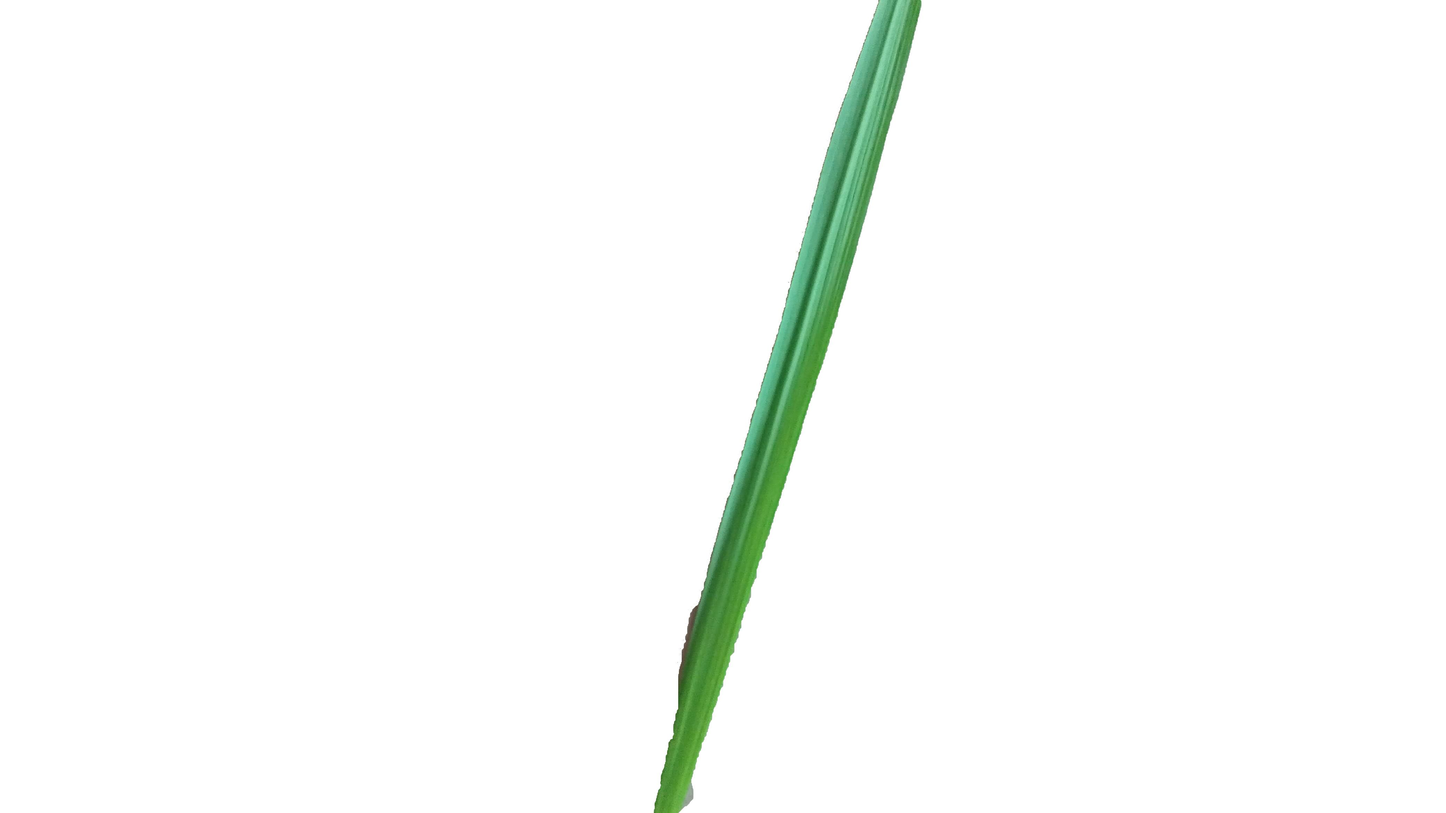Healthy: (656, 0, 928, 813)
